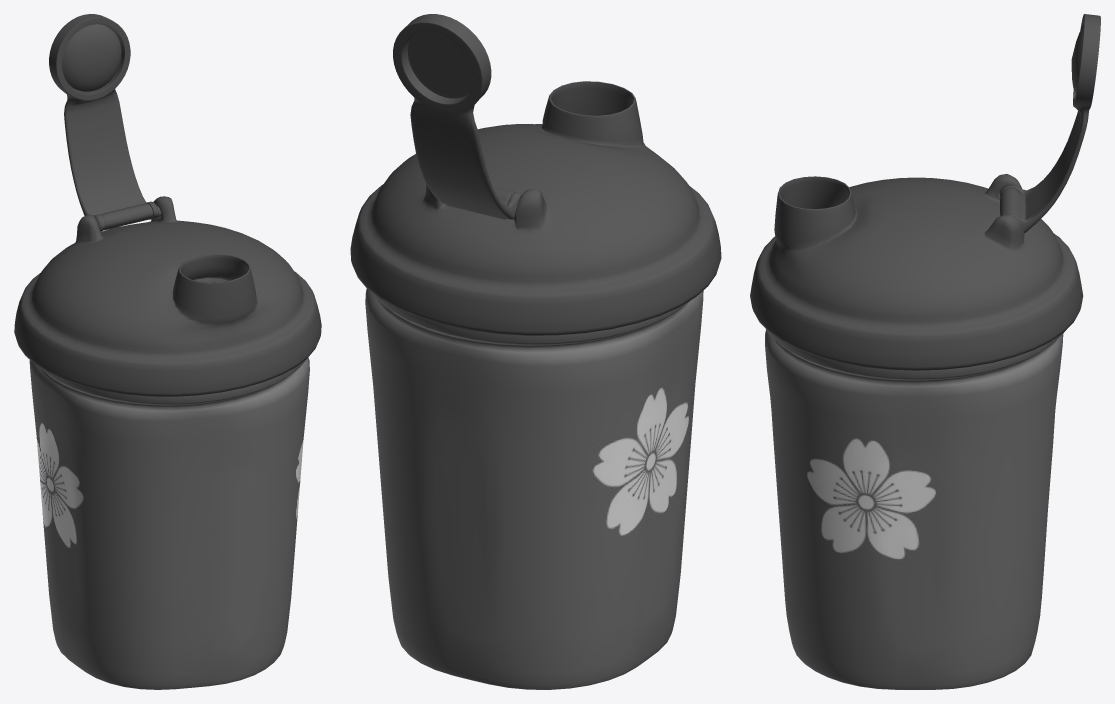
Rendered from protien_shaker.glb.
The picture shows the model from 3 angles, left to right: view 1: azimuth 30°, elevation 25°; view 2: azimuth 150°, elevation 25°; view 3: azimuth 270°, elevation 25°; orthographic projection. The views are drawn at different scales.
Parts seen in each view (by area): view 1: pCylinder1, pCylinder4; view 2: pCylinder1, pCylinder4; view 3: pCylinder1, pCylinder4.
Boxes of the visible parts, x1=… form: pCylinder1: x1=29, y1=278, x2=309, y2=689; pCylinder4: x1=14, y1=14, x2=321, y2=396; pCylinder1: x1=365, y1=288, x2=703, y2=689; pCylinder4: x1=350, y1=14, x2=721, y2=335; pCylinder1: x1=765, y1=329, x2=1063, y2=689; pCylinder4: x1=750, y1=14, x2=1100, y2=370.
Bounding box in the file's own units: 2.12 × 4.33 × 2.21.
2 materials, 2 textured.
